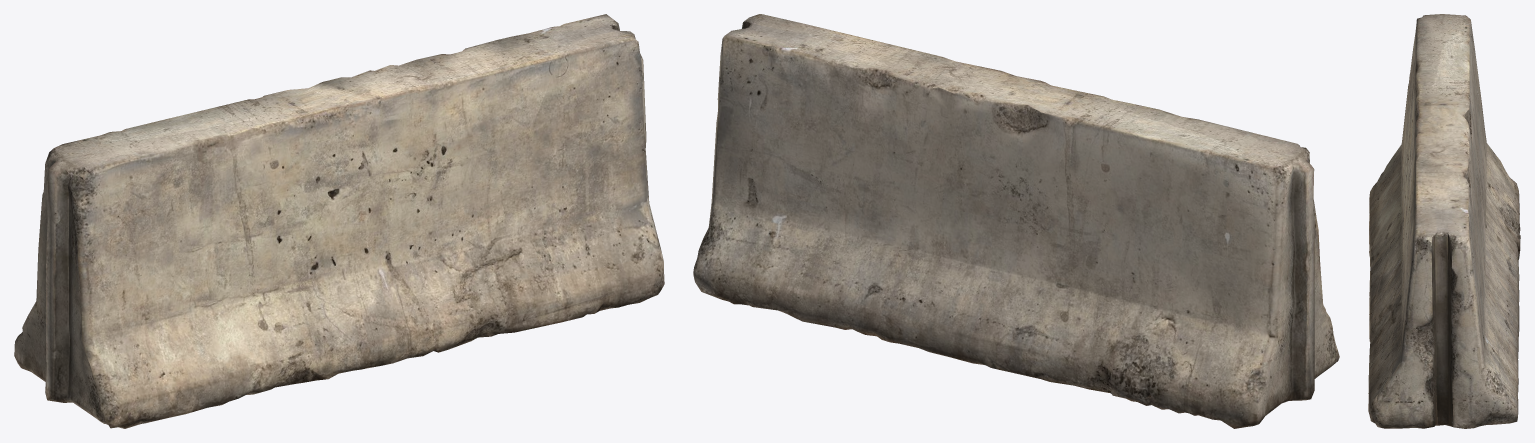
The model's file is SM_Concrete_Barriers.glb.
3 views of the same model, side by side, from view 1: azimuth 30°, elevation 25°; view 2: azimuth 150°, elevation 25°; view 3: azimuth 270°, elevation 25° (orthographic). The views are drawn at different scales.
Parts seen in each view (by area): view 1: SM_Concrete_Barriers; view 2: SM_Concrete_Barriers; view 3: SM_Concrete_Barriers.
Part boxes in pixels (x1=…): SM_Concrete_Barriers: x1=14, y1=14, x2=664, y2=428; SM_Concrete_Barriers: x1=693, y1=14, x2=1339, y2=428; SM_Concrete_Barriers: x1=1368, y1=14, x2=1520, y2=428.
Size of the model in its own units: 2.16 by 0.8654 by 0.6094.
Materials: 1 (1 with a texture image).
